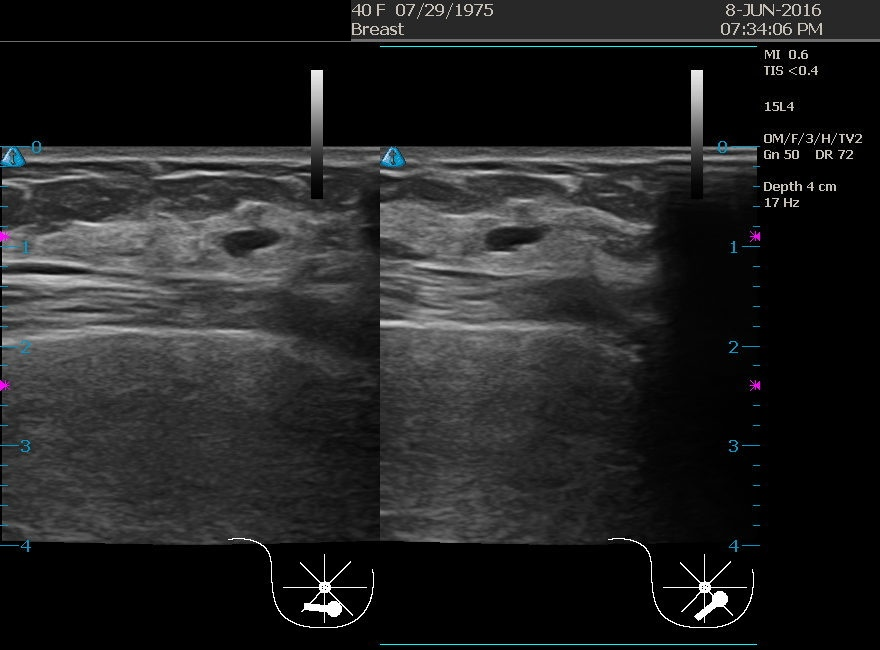BIRADS_2: (408, 150, 609, 350), (126, 204, 326, 404)
